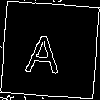A: (25, 25, 63, 74)
